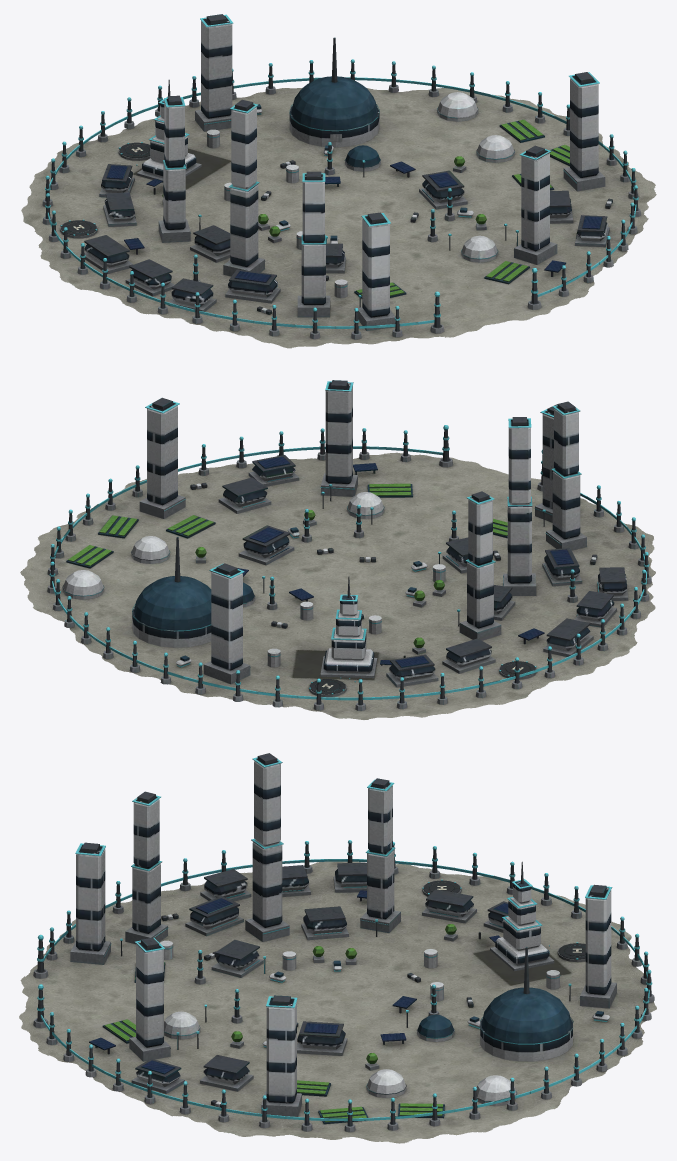
Rendered from future-town-big-a.glb.
3 renders of one model, top to bottom at view 1: azimuth 30°, elevation 25°; view 2: azimuth 150°, elevation 25°; view 3: azimuth 270°, elevation 25°, orthographic. The views are drawn at different scales.
Visible parts, largest first — view 1: LOD0; view 2: LOD0; view 3: LOD0.
Boxes of the visible parts, left/top/right/bottom form: LOD0: left=21, top=14, right=656, bottom=348; LOD0: left=20, top=380, right=655, bottom=719; LOD0: left=19, top=753, right=656, bottom=1143.
Size of what is drawn, in the model's own units: 8.02 by 2.3 by 7.61.
Materials: 3 (3 with a texture image).
